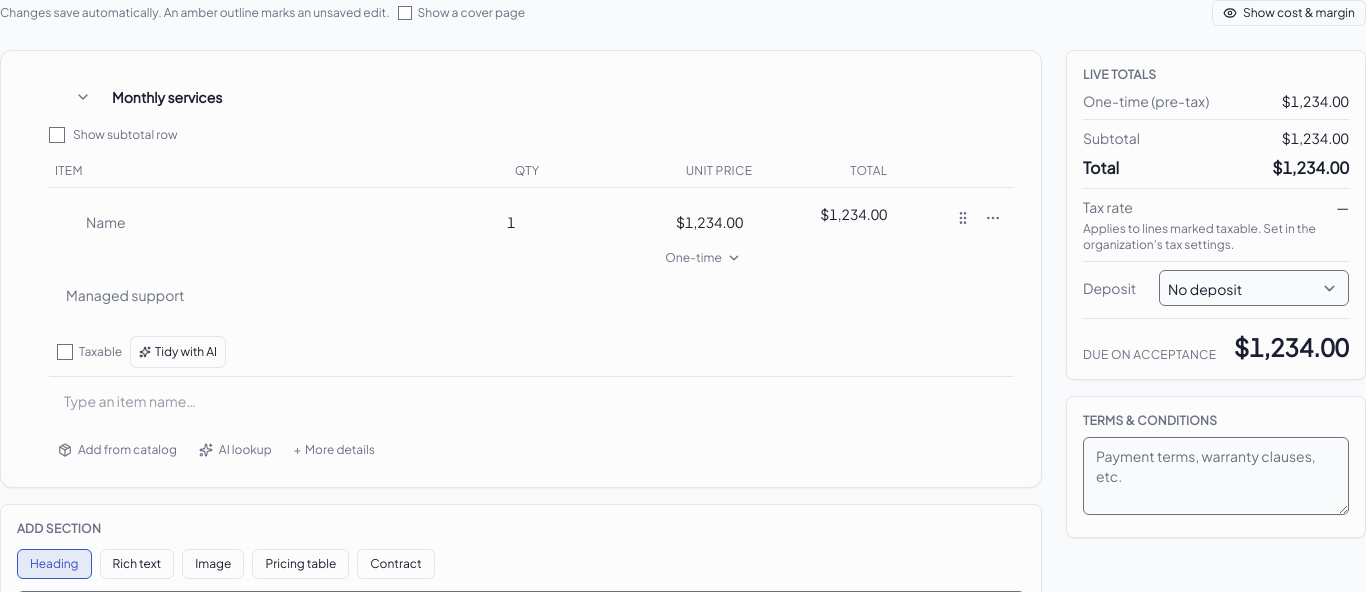
Test: QuoteLineRows — money-formatted price/cost inputs › a lone decimal point (no digits) is rejected on blur with no PATCH and no NaN in the field
Click the button with test id "quote-block-add-line-toggle-blk-1": point(334, 450) [285,437,384,463]
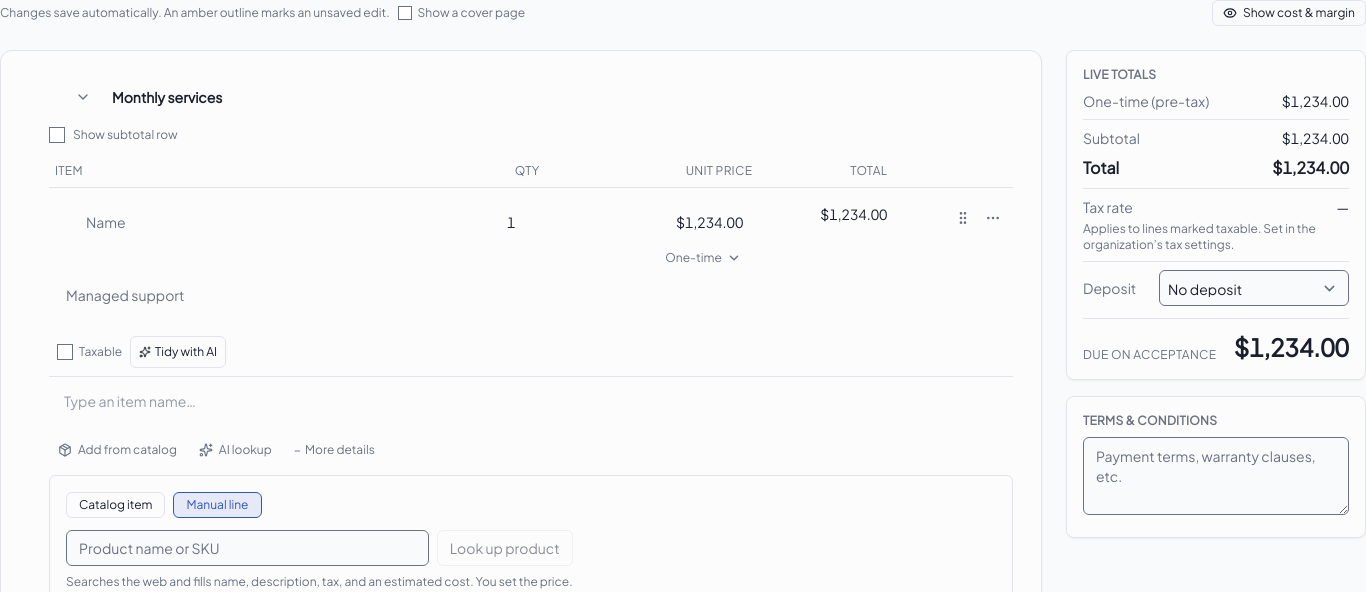
Focus the field with test id "quote-line-price-line-1": point(696, 222) [640,204,752,240]
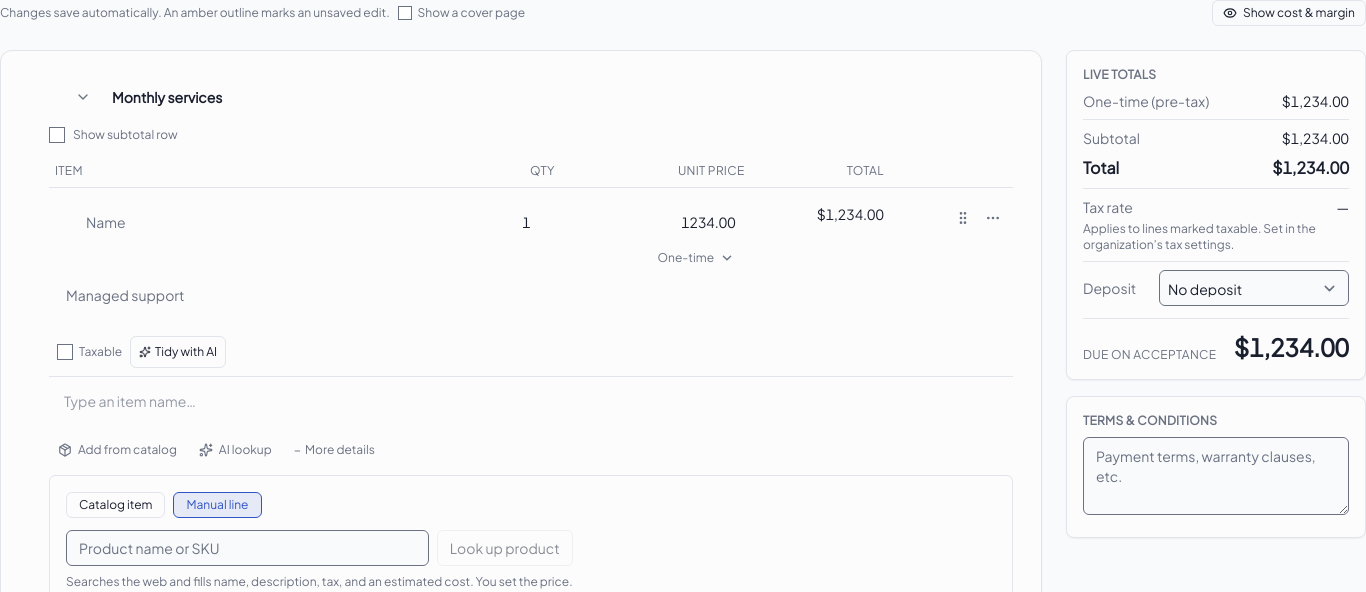
Replace the text in the field with test id "quote-line-price-line-1" with ".": point(698, 222) [652,204,744,240]
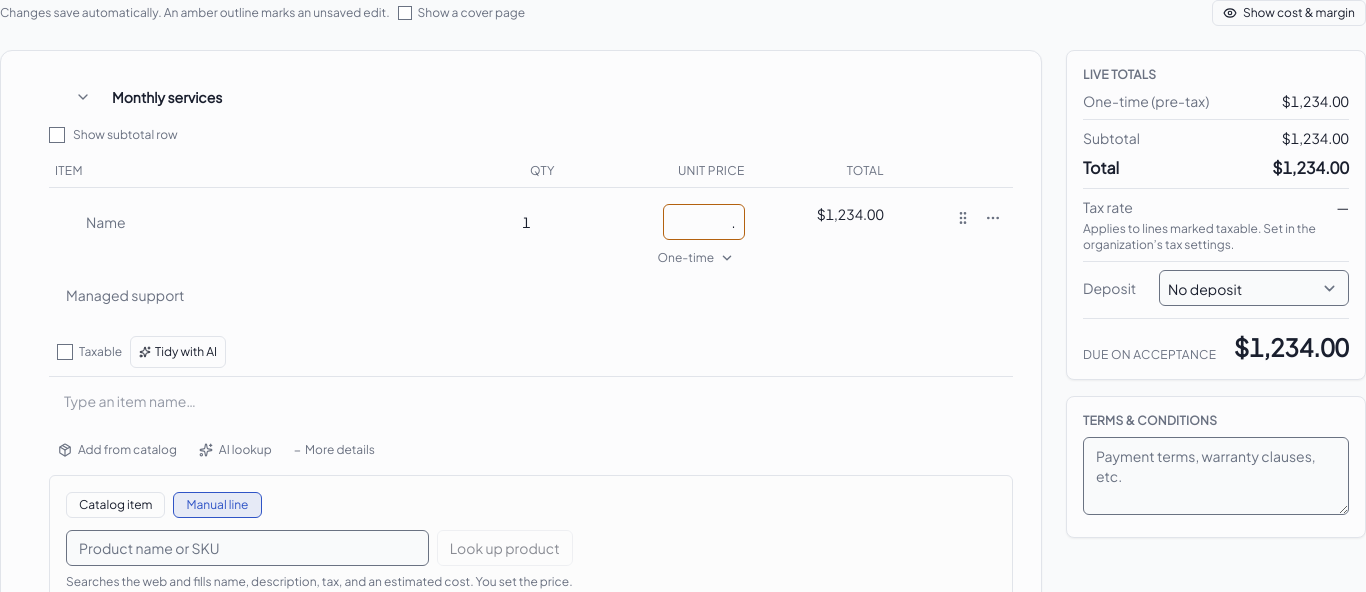
Leave the field with test id "quote-line-price-line-1", box [663,204,745,240]
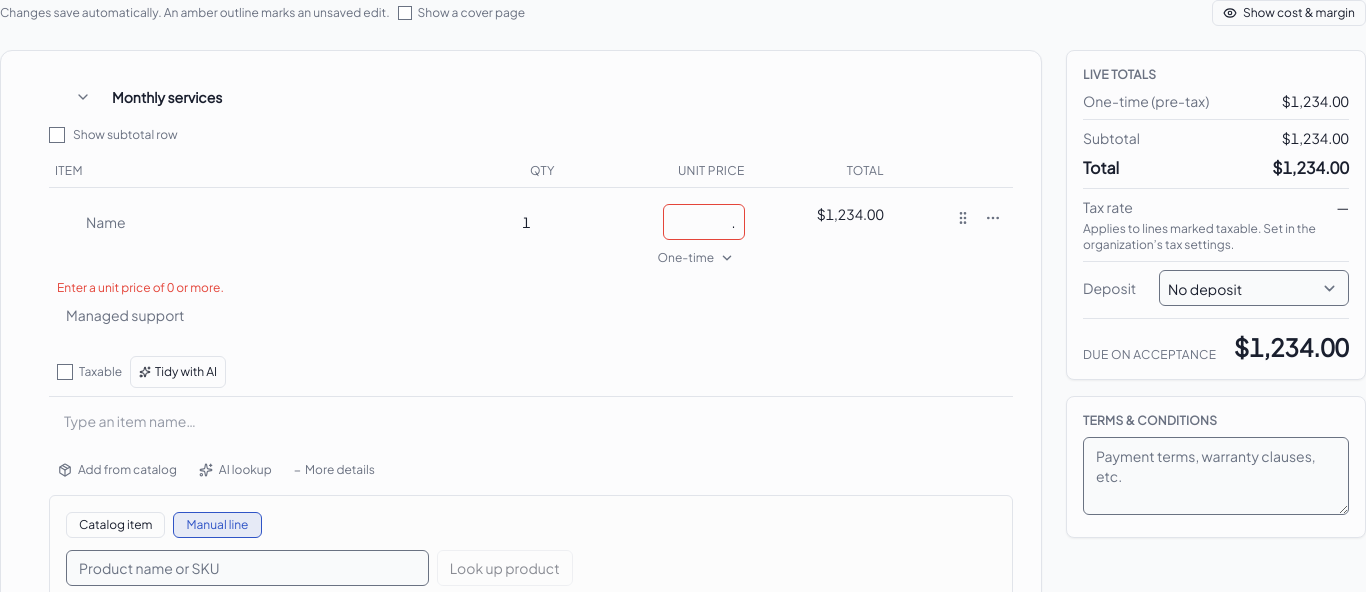
Now the text "Enter a unit price of 0 or more." is shown, box [57,280,224,295]
